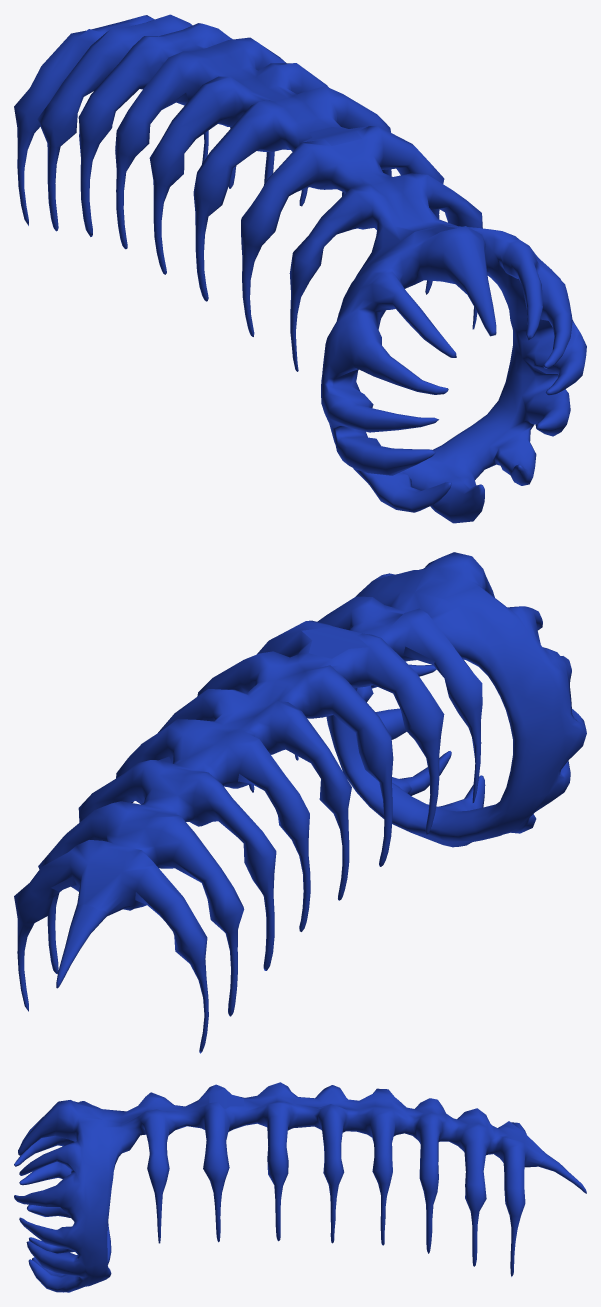
The model's file is worm_fossile.fbx.
3 views of the same model, one above another, from view 1: azimuth 30°, elevation 25°; view 2: azimuth 150°, elevation 25°; view 3: azimuth 270°, elevation 25° (orthographic). The views are drawn at different scales.
Parts seen in each view (by area): view 1: worm_l; view 2: worm_l; view 3: worm_l.
Part boxes in pixels (bbox=[...]): worm_l: bbox=[14, 14, 586, 523]; worm_l: bbox=[14, 552, 586, 1053]; worm_l: bbox=[14, 1082, 586, 1292].
Bounding box in the file's own units: 1551 × 1764 × 4587.
